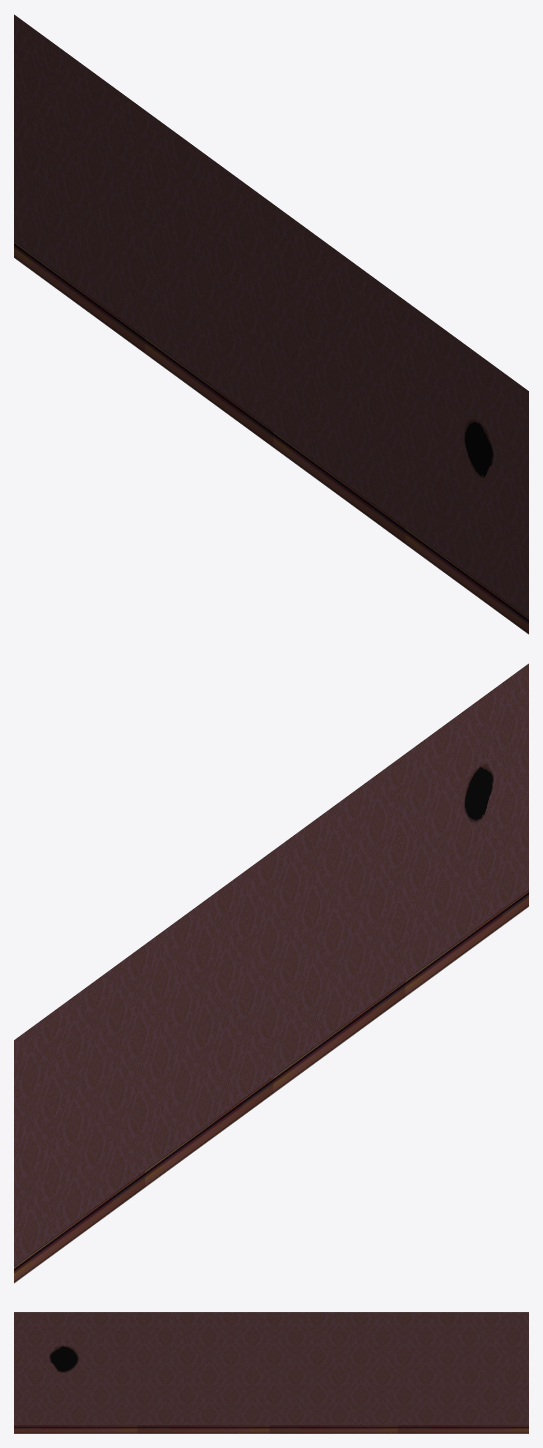
Rendered from PAST_HOLEWALLHOLE_SCALED.fbx.
The picture shows the model from 3 angles, top to bottom: view 1: azimuth 30°, elevation 25°; view 2: azimuth 150°, elevation 25°; view 3: azimuth 270°, elevation 25°; orthographic projection. The views are drawn at different scales.
Visible parts, largest first — view 1: Hole_Wall; view 2: Hole_Wall; view 3: Hole_Wall.
Part boxes in pixels (x1,y1,x2,y2): Hole_Wall: [14, 14, 528, 634]; Hole_Wall: [14, 663, 528, 1283]; Hole_Wall: [14, 1312, 528, 1433].
Bounding box in the file's own units: 0 × 641 × 2456.
1 material, 1 textured.
